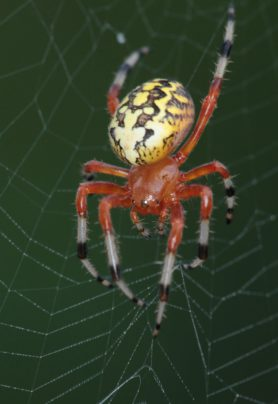spider: (65, 2, 267, 342)
